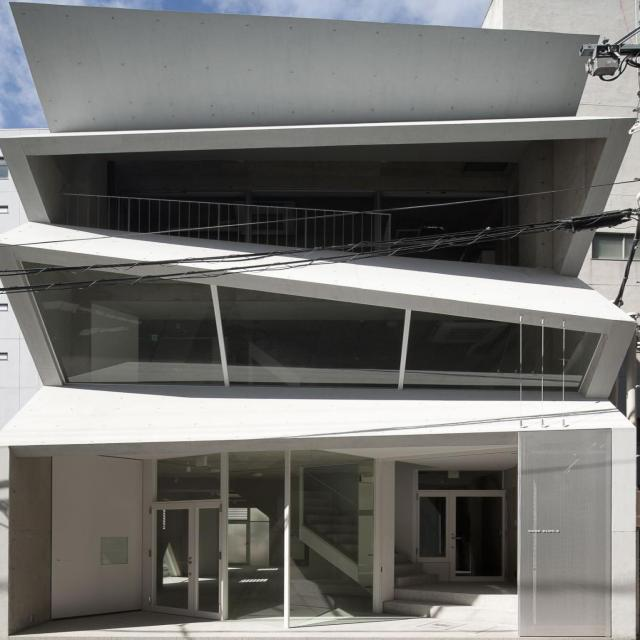Railing: (65, 190, 394, 255)
door: (144, 501, 224, 616), (413, 489, 507, 582)
wall: (0, 3, 639, 640)
windows: (29, 260, 603, 393), (144, 447, 372, 621), (414, 470, 504, 581)
